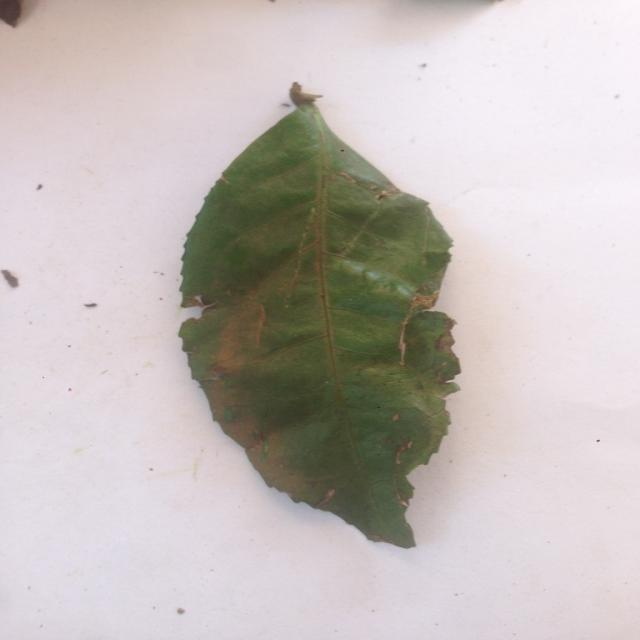Brown Blight: (168, 78, 476, 548)
